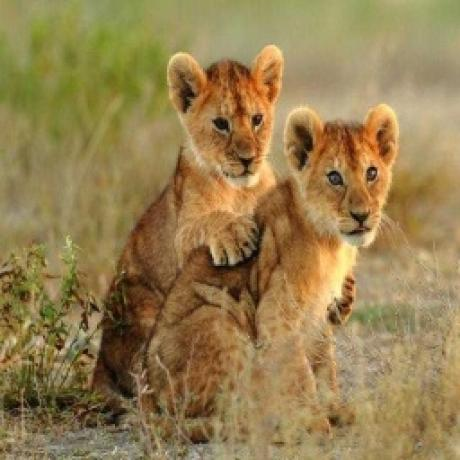Lion: (145, 103, 404, 417), (92, 44, 289, 400)
